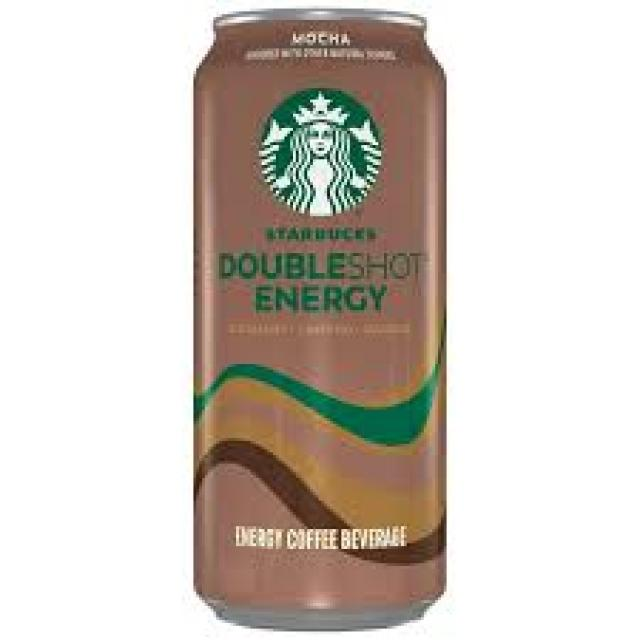Cans: (188, 3, 455, 631)
